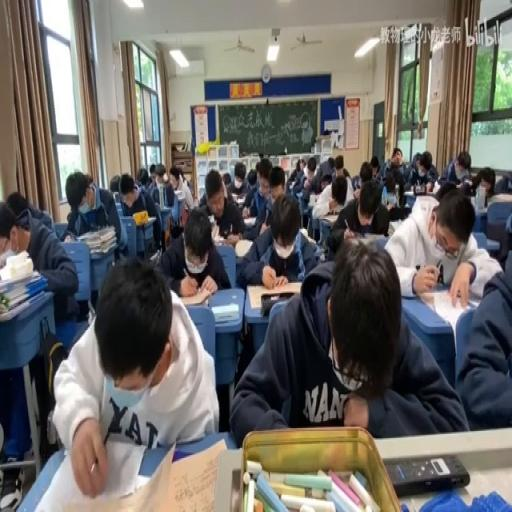calculator: (386, 452, 470, 494), (414, 286, 482, 334), (246, 280, 302, 309), (88, 248, 117, 294), (178, 283, 212, 306), (210, 302, 238, 322), (0, 244, 22, 268), (212, 230, 240, 248), (234, 236, 252, 256), (298, 224, 316, 244), (487, 192, 512, 202), (466, 289, 482, 304), (320, 212, 339, 222), (242, 215, 256, 226), (230, 195, 244, 205), (206, 144, 216, 158), (63, 232, 76, 242), (149, 248, 159, 260), (308, 193, 318, 205), (174, 188, 184, 199), (388, 220, 394, 234), (403, 189, 416, 194)
paper: (230, 238, 460, 442), (51, 258, 217, 504), (384, 186, 498, 304), (1, 194, 80, 327), (235, 190, 316, 288), (158, 205, 229, 294), (63, 170, 121, 260), (328, 178, 389, 247), (118, 172, 161, 255), (486, 193, 512, 273), (379, 170, 408, 220), (405, 148, 438, 189), (437, 148, 471, 186), (168, 163, 194, 212), (310, 155, 336, 192), (223, 161, 248, 199), (288, 158, 308, 200), (6, 190, 30, 224), (149, 179, 173, 209), (325, 225, 345, 256), (268, 168, 286, 202), (434, 181, 456, 202), (493, 170, 512, 194), (255, 160, 271, 188), (358, 160, 372, 184), (480, 170, 494, 194), (136, 165, 150, 188), (109, 174, 121, 196), (154, 165, 166, 185), (390, 148, 404, 165), (334, 154, 344, 174), (460, 181, 473, 196), (245, 168, 256, 185), (306, 158, 316, 175), (351, 174, 360, 189), (84, 174, 93, 188), (221, 178, 227, 198), (149, 162, 156, 179), (381, 185, 387, 203), (300, 156, 306, 170), (258, 151, 264, 162), (342, 168, 350, 176)
person: (413, 182, 429, 193), (319, 238, 328, 256), (436, 260, 442, 282)
